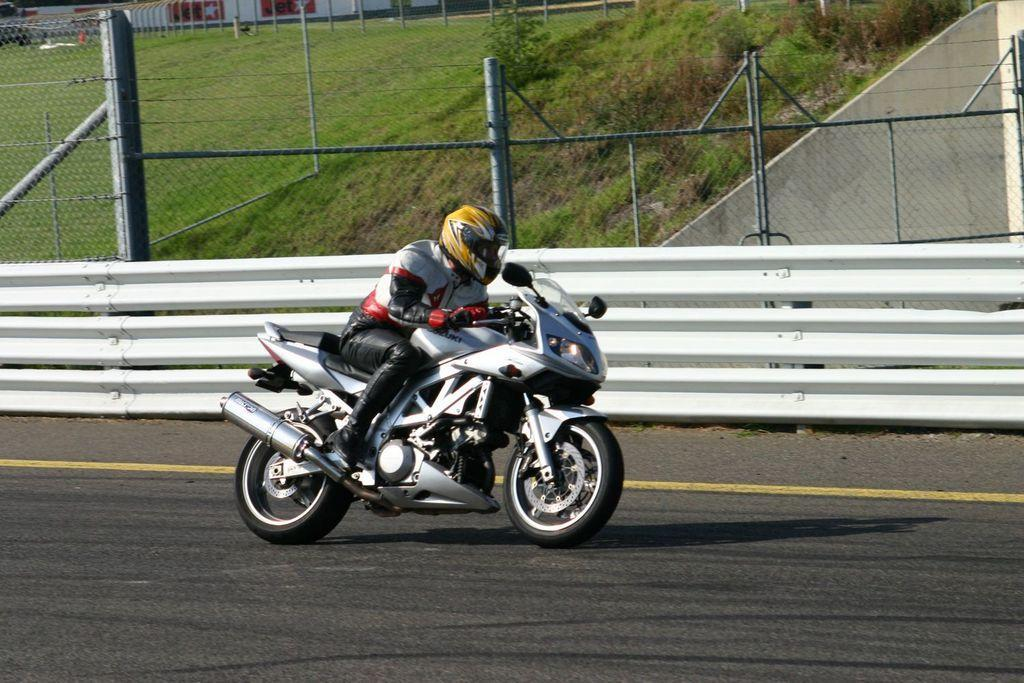helmet: (438, 202, 511, 286)
